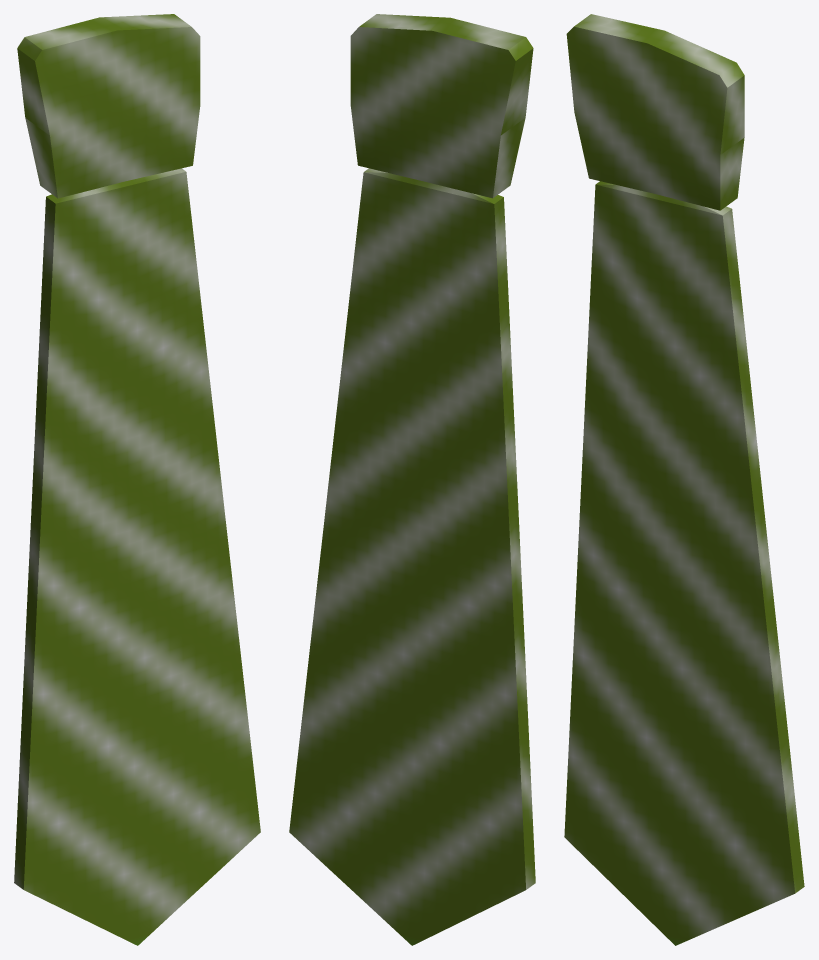
Rendered from tie_green.fbx.
3 views of the same model, side by side, from view 1: azimuth 30°, elevation 25°; view 2: azimuth 150°, elevation 25°; view 3: azimuth 330°, elevation 25° (orthographic). The views are drawn at different scales.
Parts seen in each view (by area): view 1: Line003; view 2: Line003; view 3: Line003.
Part boxes in pixels (box(x1,y1,x2,y2)): Line003: box(14, 14, 260, 945); Line003: box(289, 14, 535, 945); Line003: box(564, 14, 804, 945).
Bounding box in the file's own units: 2.45 × 9.14 × 0.4538.
